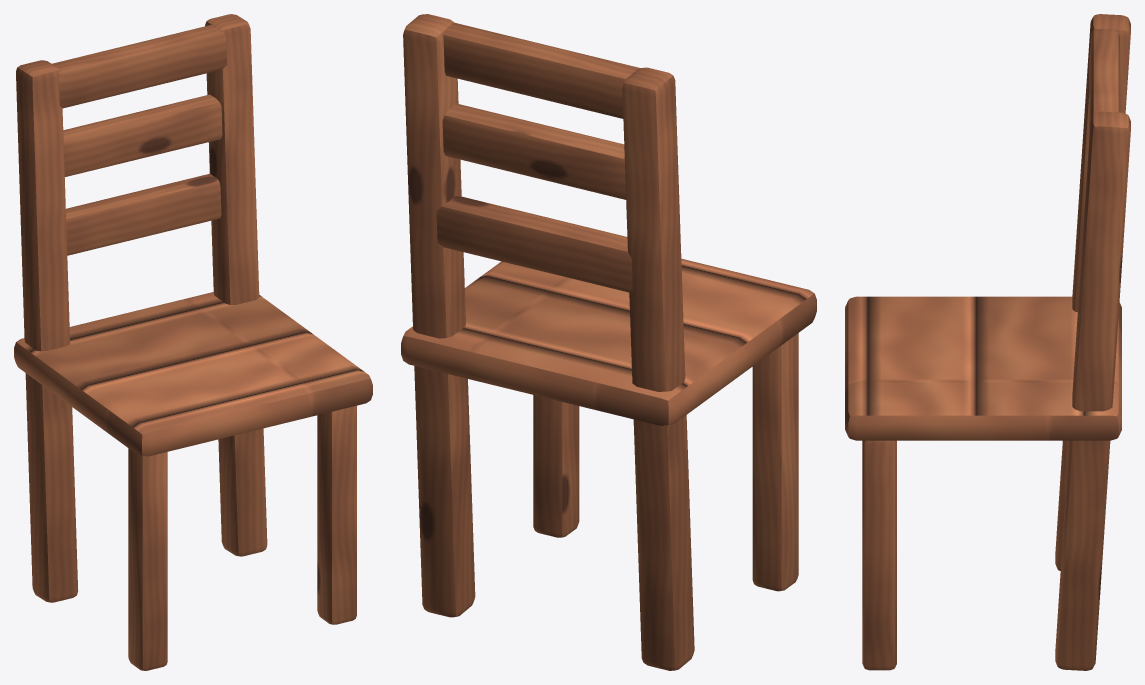
File: chair.gltf
3 renders of one model, left to right at view 1: azimuth 30°, elevation 25°; view 2: azimuth 150°, elevation 25°; view 3: azimuth 270°, elevation 25°, orthographic. The views are drawn at different scales.
Visible parts, largest first — view 1: chair_mesh; view 2: chair_mesh; view 3: chair_mesh.
Part boxes in pixels (x1,y1,x2,y2): chair_mesh: (14,14,372,670); chair_mesh: (401,14,816,670); chair_mesh: (845,14,1130,670).
Size of what is drawn, in the model's own units: 0.5 by 1.05 by 0.4955.
2 materials, 2 textured.
